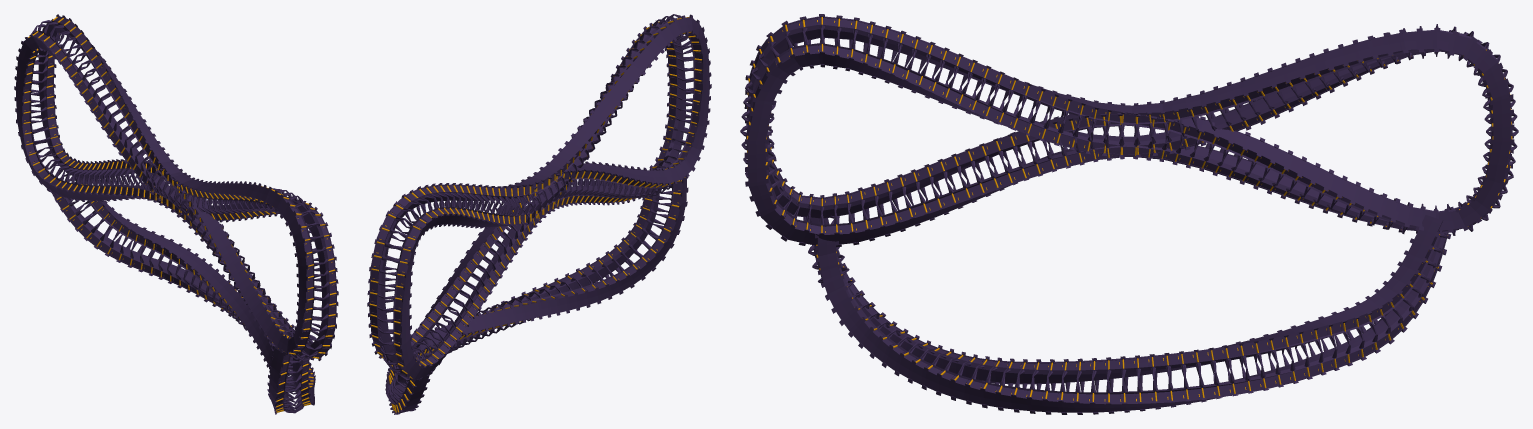
The model's file is frog_4.fbx.
3 views of the same model, side by side, from view 1: azimuth 30°, elevation 25°; view 2: azimuth 150°, elevation 25°; view 3: azimuth 270°, elevation 25° (orthographic). The views are drawn at different scales.
Visible parts, largest first — view 1: f4rd; view 2: f4rd; view 3: f4rd.
Part boxes in pixels (box(x1,y1,x2,y2)): f4rd: box(14, 14, 338, 414); f4rd: box(367, 14, 711, 414); f4rd: box(740, 14, 1518, 414).
Size of the model in its own units: 522 by 1083 by 2254.
